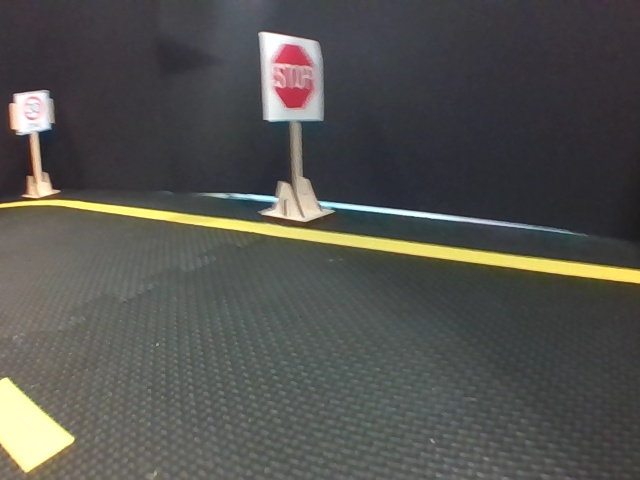30: (14, 95, 51, 130)
stop: (261, 32, 324, 123)
